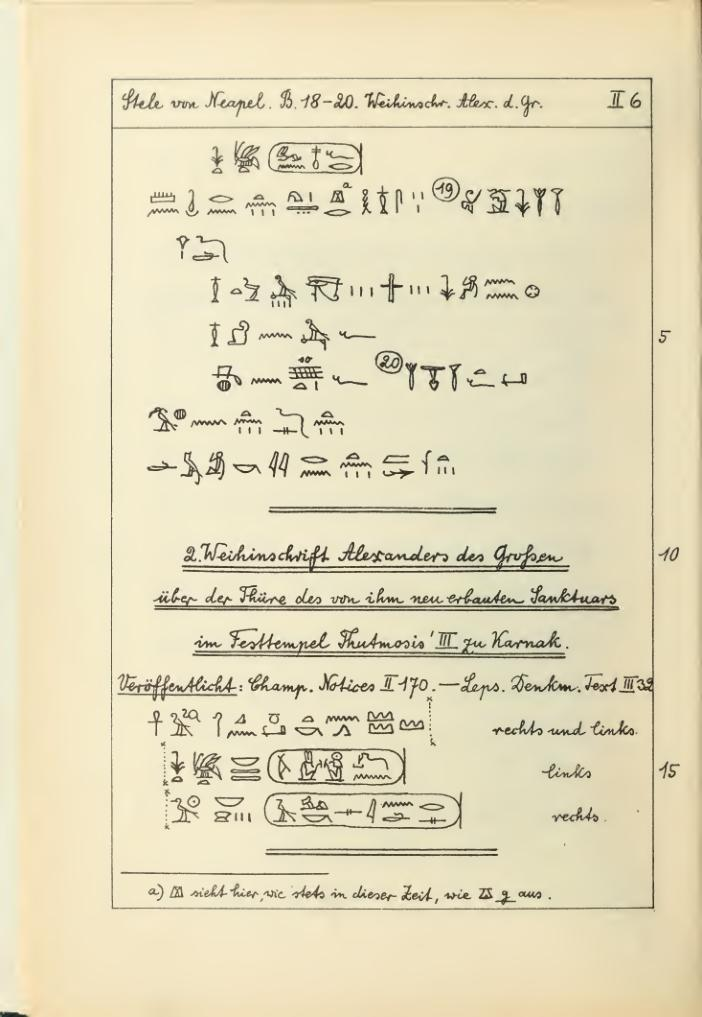circle: (255, 788, 481, 835), (253, 116, 382, 188), (263, 730, 419, 788)
